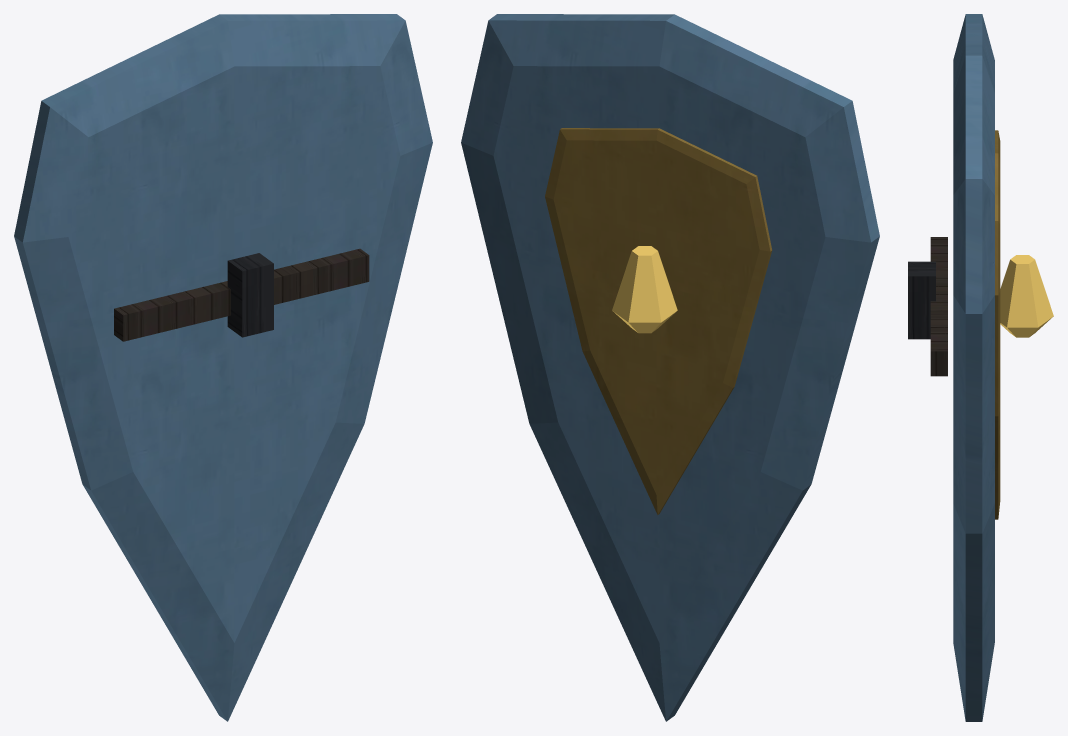
The model's file is wpn_shield_rare.glb.
The picture shows the model from 3 angles, left to right: view 1: azimuth 30°, elevation 25°; view 2: azimuth 150°, elevation 25°; view 3: azimuth 270°, elevation 25°; orthographic projection. The views are drawn at different scales.
Parts seen in each view (by area): view 1: wpn_shield_rare; view 2: wpn_shield_rare; view 3: wpn_shield_rare.
Boxes of the visible parts, <box> form: wpn_shield_rare: <box>14,14,432,721</box>; wpn_shield_rare: <box>461,14,879,721</box>; wpn_shield_rare: <box>908,14,1053,721</box>.
Bounding box in the file's own units: 0.648 × 1.06 × 0.21.
Materials: 5 (4 with a texture image).
